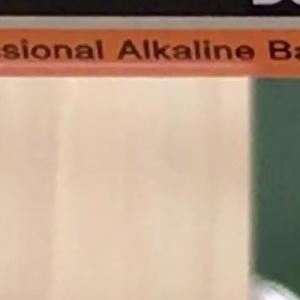ALK: (108, 30, 160, 69)
